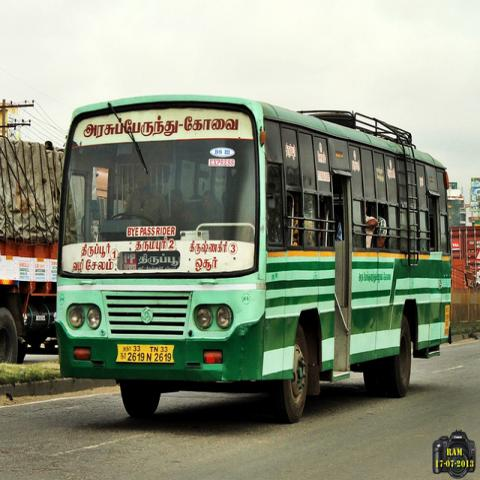bus: (57, 96, 454, 421)
truck: (0, 133, 67, 366), (450, 225, 479, 288)
